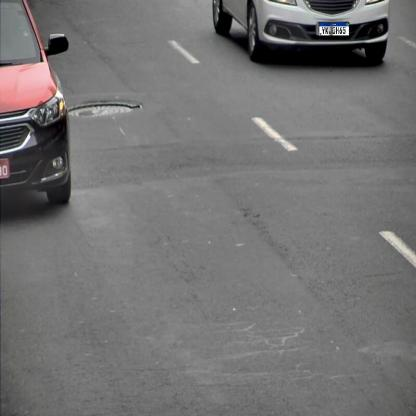PlacaM: (319, 22, 349, 36)
